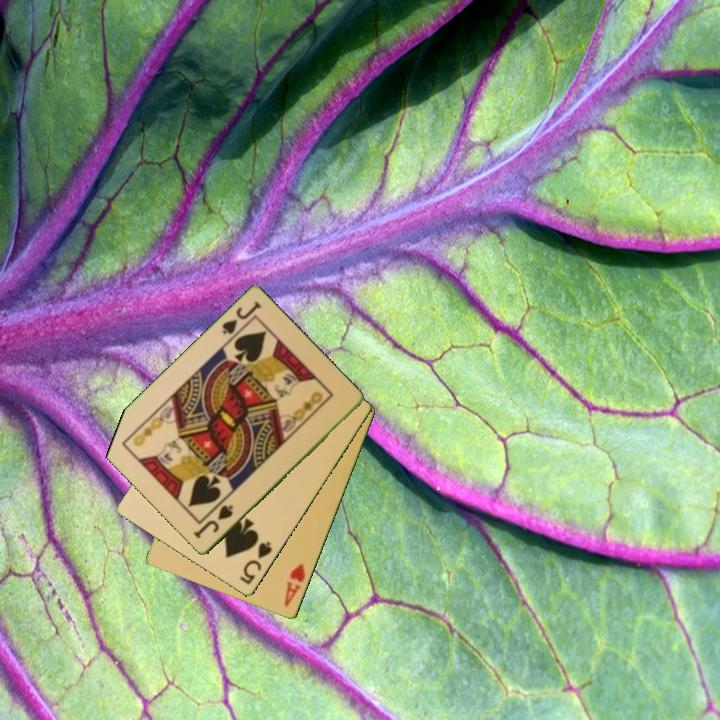5s: (236, 538, 275, 588)
Ah: (281, 560, 308, 610)
Js: (191, 501, 236, 542), (218, 298, 264, 338)
